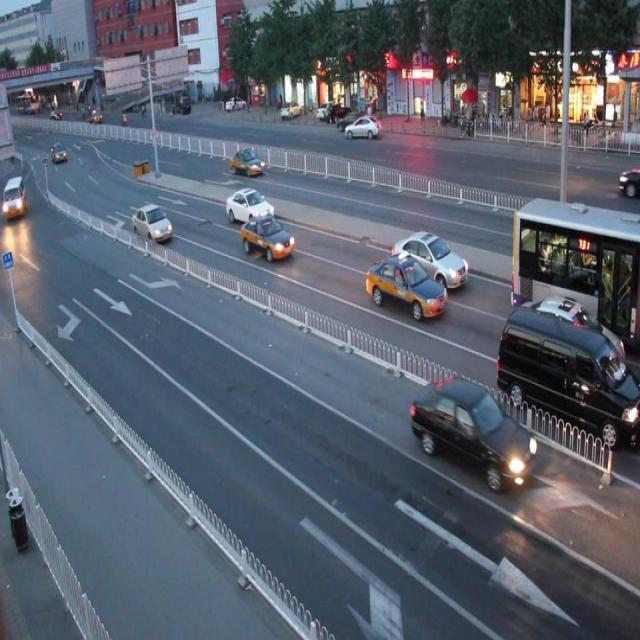car: (411, 374, 535, 489), (515, 296, 624, 392), (365, 254, 446, 320), (392, 229, 468, 291), (241, 213, 294, 263), (227, 187, 274, 224), (132, 203, 173, 243), (230, 145, 265, 177)
truck: (496, 300, 640, 446)
van: (510, 193, 640, 350)
